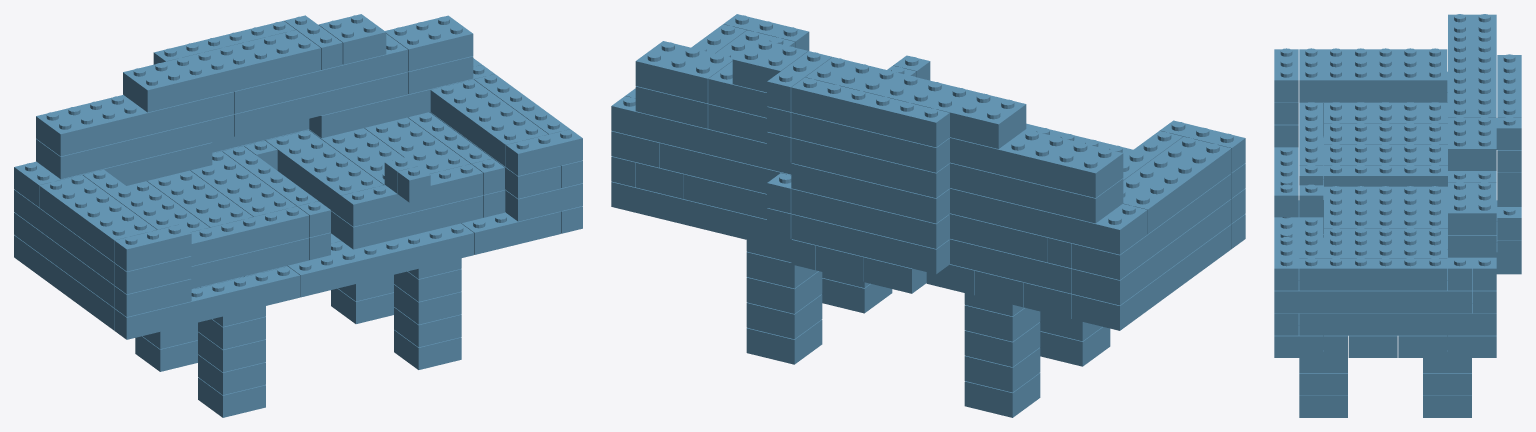
File: collab_sofa-L2V3_raw.glb
3 renders of one model, left to right at view 1: azimuth 30°, elevation 25°; view 2: azimuth 150°, elevation 25°; view 3: azimuth 270°, elevation 25°, orthographic. The views are drawn at different scales.
Size of the model in its own units: 20.98 by 12.13 by 9.98.
